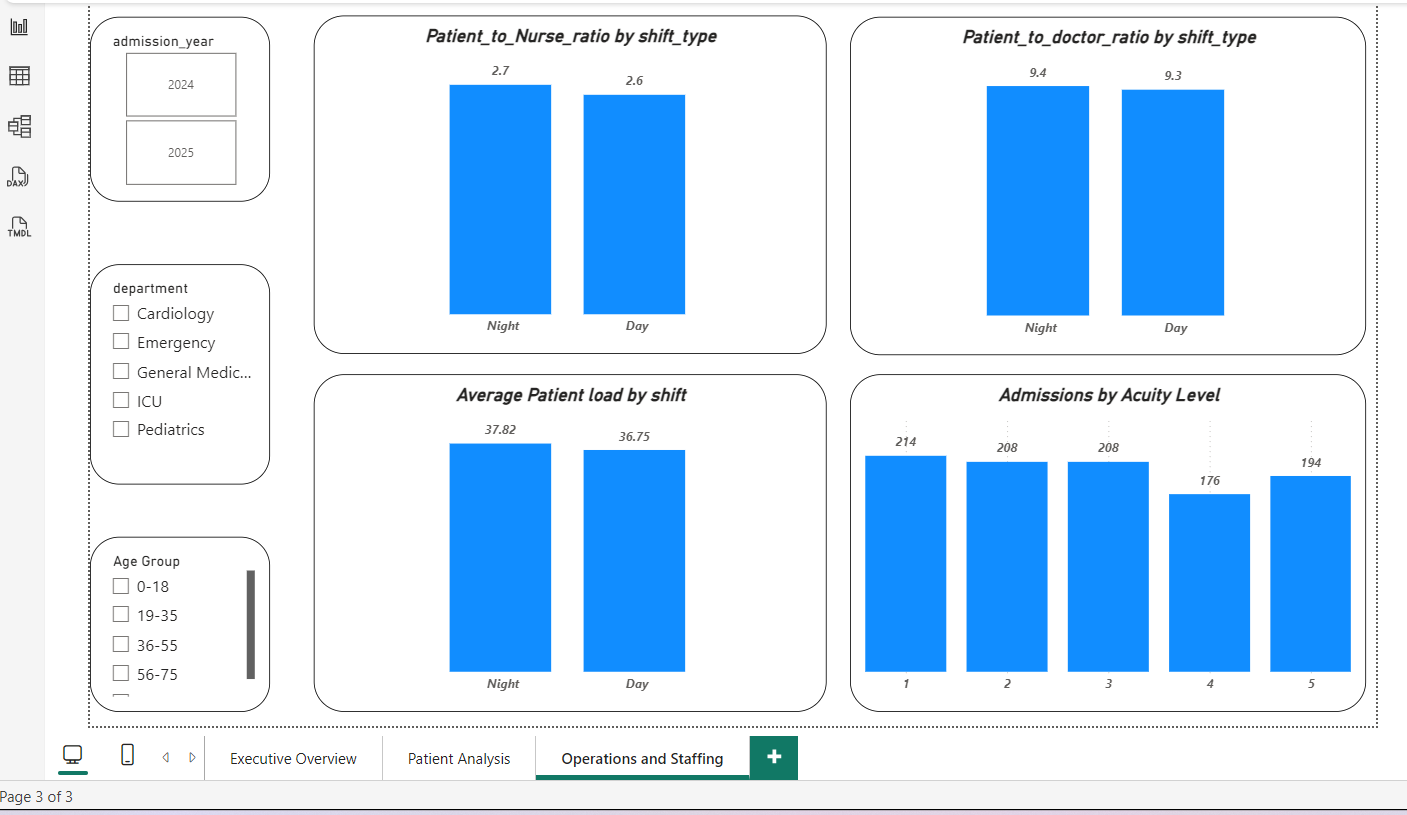

Layout of this report page (visuals, bound fields, positions):
{"tool":"powerbi","page":{"name":"Operations and Staffing","canvas":[1280,720],"ordinal":2},"visuals":[{"type":"clusteredColumnChart","fields":{"Category":["staffing_log.shift_type"],"Y":["staffing_log.Patient_to_Nurse_ratio"]},"box":[222.7,12.4,510,337.1],"z":0},{"type":"clusteredColumnChart","fields":{"Category":["staffing_log.shift_type"],"Y":["staffing_log.Patient_to_doctor_ratio"]},"box":[756.3,13.7,513.8,337.1],"z":1000},{"type":"clusteredColumnChart","title":"Average Patient load by shift","fields":{"Category":["staffing_log.shift_type"],"Y":["Avg(staffing_log.actual_patient_count)"]},"box":[222.7,369.5,510,335.9],"z":2000},{"type":"clusteredColumnChart","title":"Admissions by Acuity Level","fields":{"Category":["patient_admission_final.acuity_level"],"Y":["CountNonNull(patient_admission_final.admission_id)"]},"box":[756.3,369.5,513.8,335.9],"z":3000},{"type":"slicer","fields":{"Values":["patient_admission_final.admission_year"]},"box":[0,13.7,179.1,184.1],"z":4000},{"type":"slicer","fields":{"Values":["patient_admission_final.department"]},"box":[0,260,179.1,218.9],"z":5000},{"type":"slicer","fields":{"Values":["patient_admission_final.Age Group"]},"box":[0,531.2,179.1,174.2],"z":6000}]}

Visuals, with their boxes on the page's 1280x720 design canvas (x1, y1, x2, y2). These are canvas units, not pixel positions in the 1407x815 screenshot, which may show the page scaled, cropped or inside an application window:
clusteredColumnChart - staffing_log.shift_type x staffing_log.Patient_to_Nurse_ratio: <bbox>223, 12, 733, 350</bbox>
clusteredColumnChart - staffing_log.shift_type x staffing_log.Patient_to_doctor_ratio: <bbox>756, 14, 1270, 351</bbox>
"Average Patient load by shift" clusteredColumnChart: <bbox>223, 370, 733, 705</bbox>
"Admissions by Acuity Level" clusteredColumnChart: <bbox>756, 370, 1270, 705</bbox>
slicer - patient_admission_final.admission_year: <bbox>0, 14, 179, 198</bbox>
slicer - patient_admission_final.department: <bbox>0, 260, 179, 479</bbox>
slicer - patient_admission_final.Age Group: <bbox>0, 531, 179, 705</bbox>
